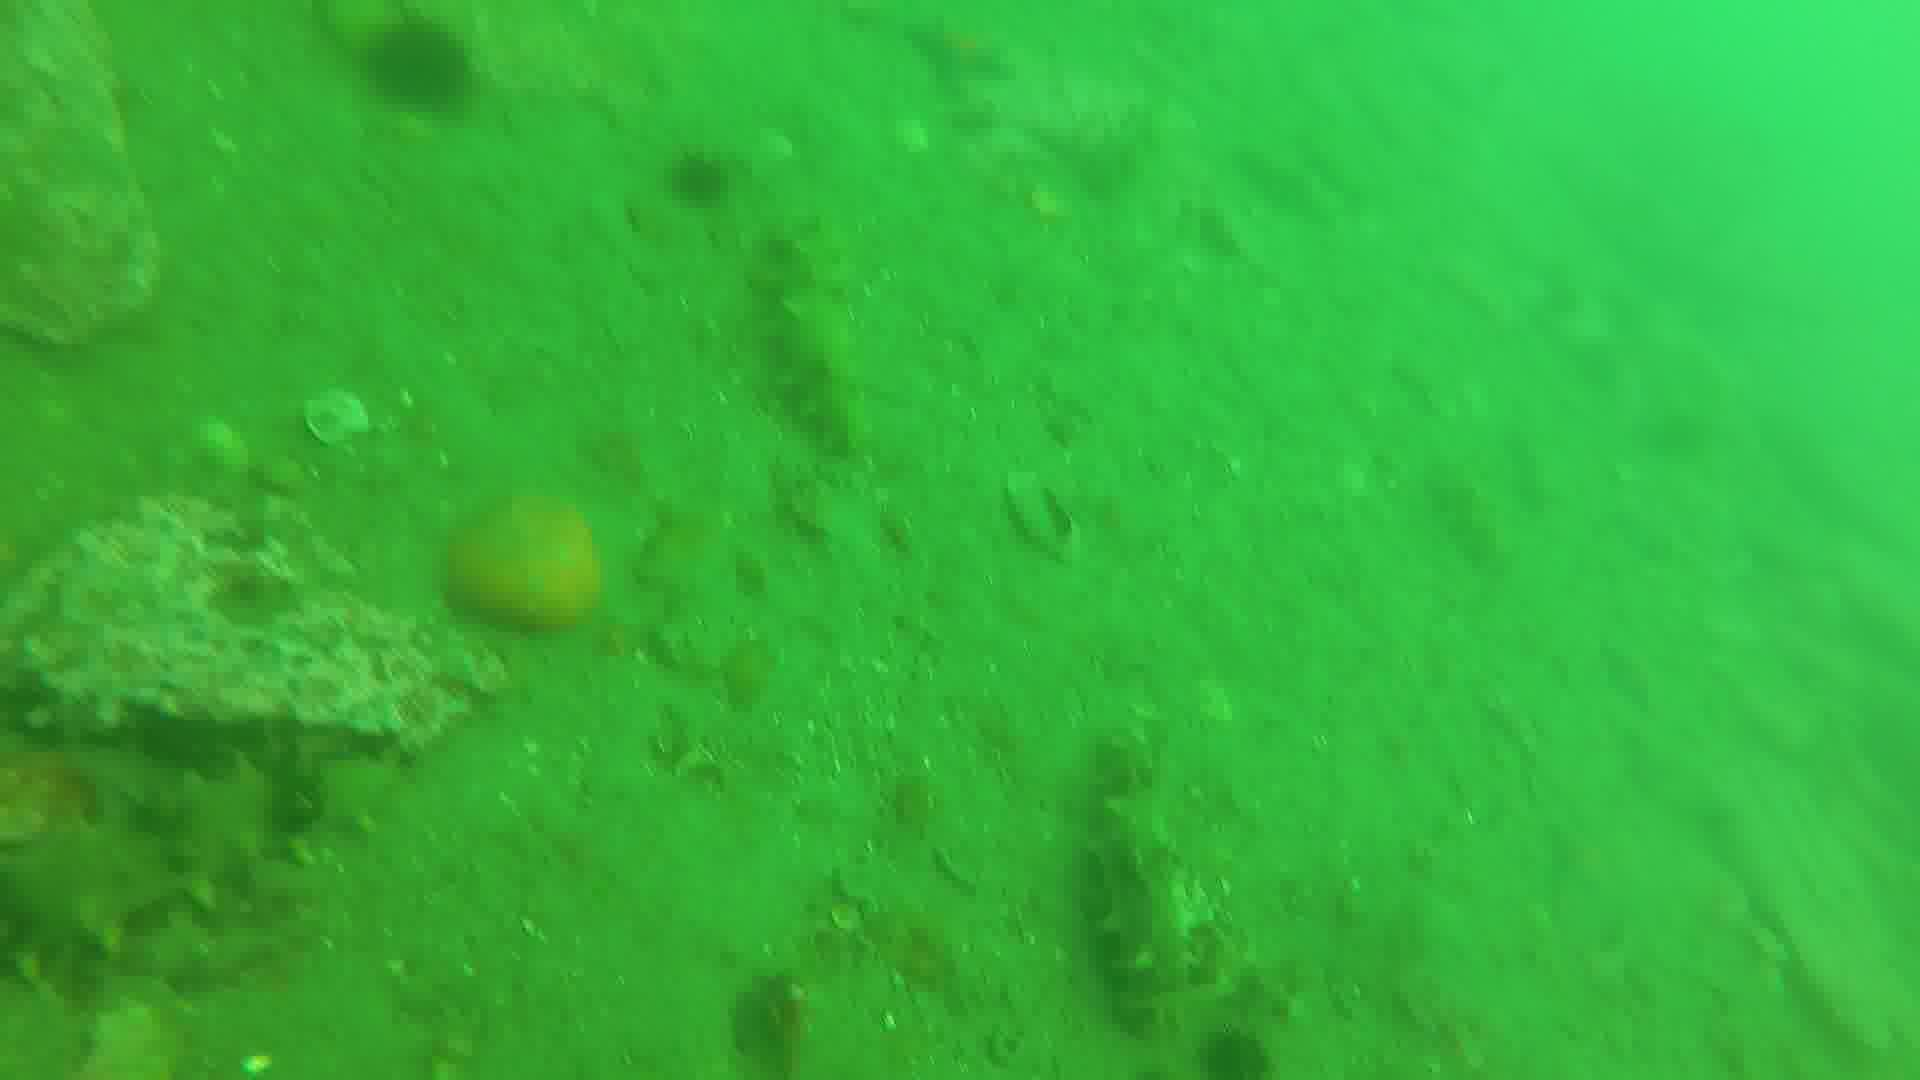echinus: (373, 15, 473, 123), (665, 149, 745, 208)
holothurian: (1, 761, 426, 968), (1087, 731, 1188, 1033), (757, 223, 877, 462)
